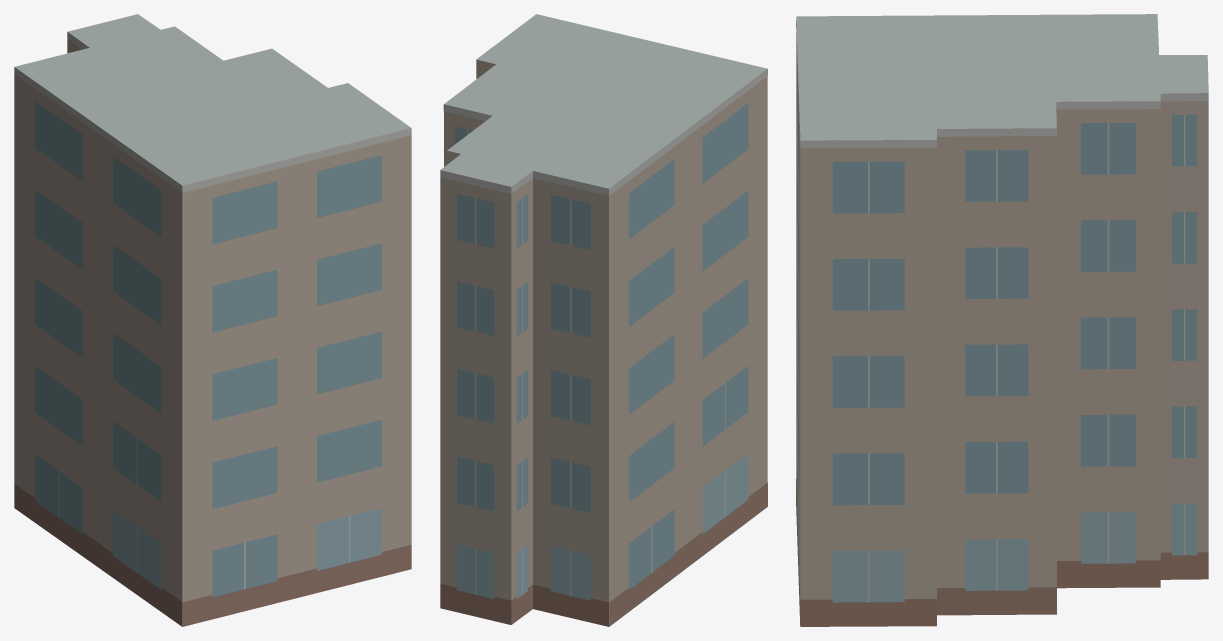
Rendered from survey-upis-32725820.glb.
The picture shows the model from 3 angles, left to right: view 1: azimuth 30°, elevation 25°; view 2: azimuth 150°, elevation 25°; view 3: azimuth 270°, elevation 25°; orthographic projection. The views are drawn at different scales.
Parts seen in each view (by area): view 1: survey-upis-32725820.tmp; view 2: survey-upis-32725820.tmp; view 3: survey-upis-32725820.tmp.
Part boxes in pixels (x1,y1,x2,y2): survey-upis-32725820.tmp: (14,14,411,626); survey-upis-32725820.tmp: (440,14,767,626); survey-upis-32725820.tmp: (796,14,1208,626).
Bounding box in the file's own units: 8.38 × 15 × 11.54.
